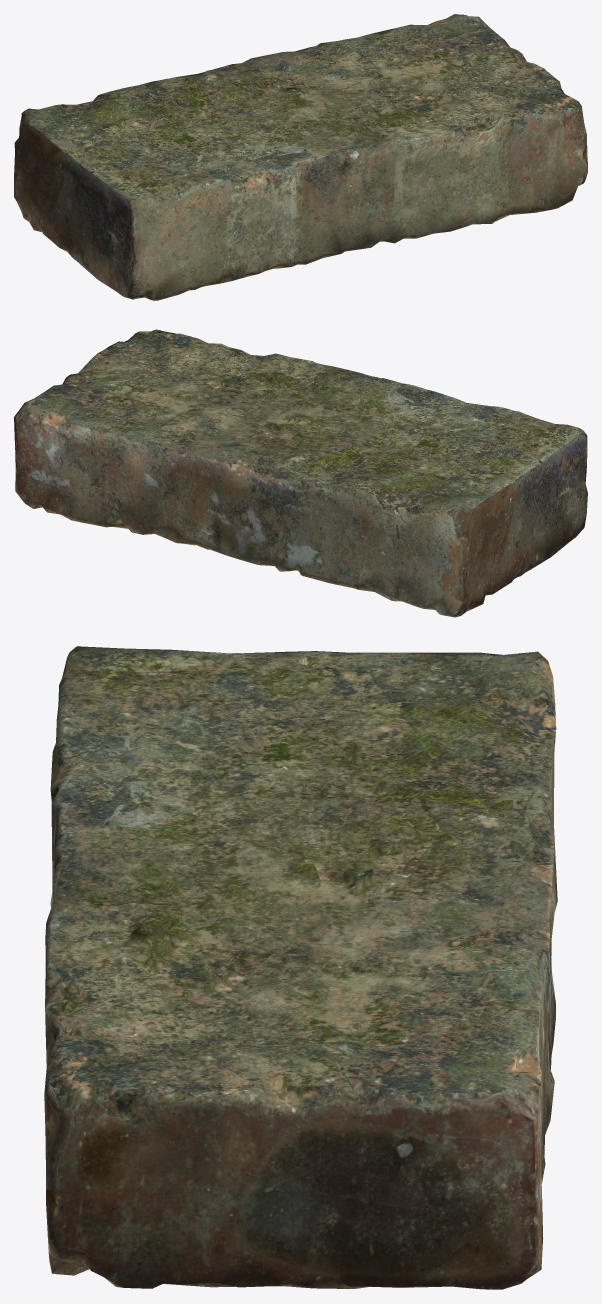
The model's file is PX_Fired_brick_01_LOD4.fbx.
3 views of the same model, one above another, from view 1: azimuth 30°, elevation 25°; view 2: azimuth 150°, elevation 25°; view 3: azimuth 270°, elevation 25° (orthographic). The views are drawn at different scales.
Visible parts, largest first — view 1: PX_Fired_brick_01_LOD4; view 2: PX_Fired_brick_01_LOD4; view 3: PX_Fired_brick_01_LOD4.
Boxes of the visible parts, left/top/right/bottom form: PX_Fired_brick_01_LOD4: left=14, top=14, right=587, bottom=300; PX_Fired_brick_01_LOD4: left=14, top=329, right=587, bottom=617; PX_Fired_brick_01_LOD4: left=44, top=646, right=557, bottom=1289.
Size of the model in its own units: 26.88 by 6.14 by 13.02.
